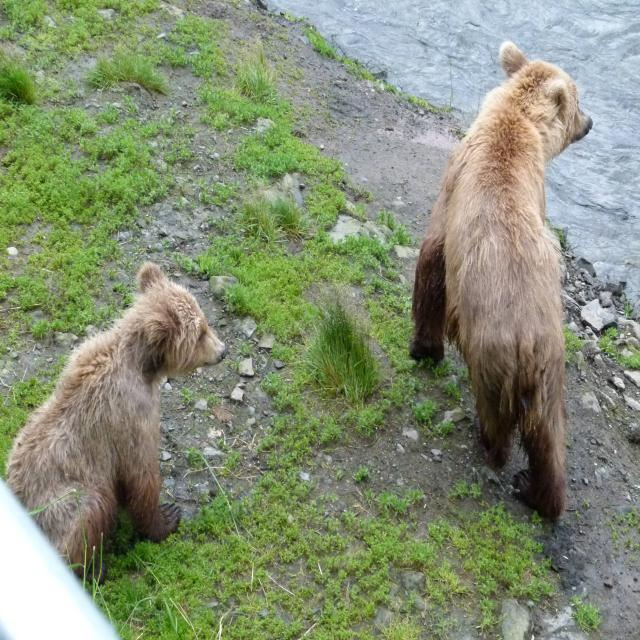bear face: (409, 43, 592, 523), (6, 263, 231, 581)
